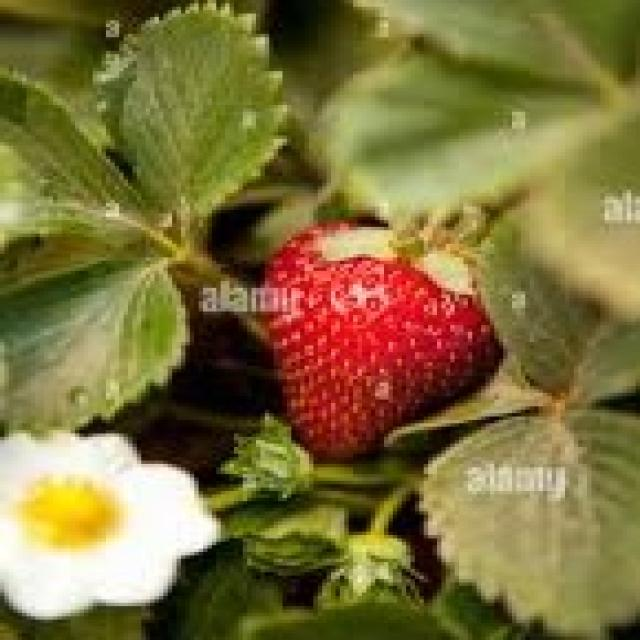strawberry: (263, 200, 517, 470)
